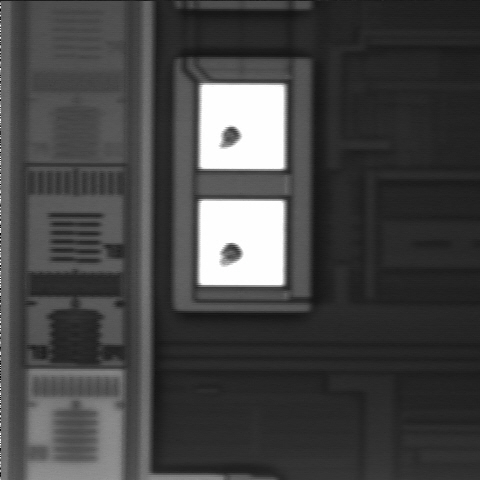pad: (200, 84, 285, 169), (199, 200, 284, 285)
